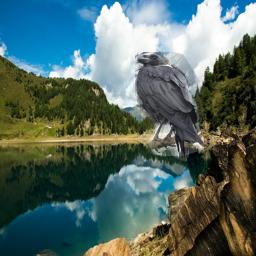Crow: (135, 52, 204, 161)
